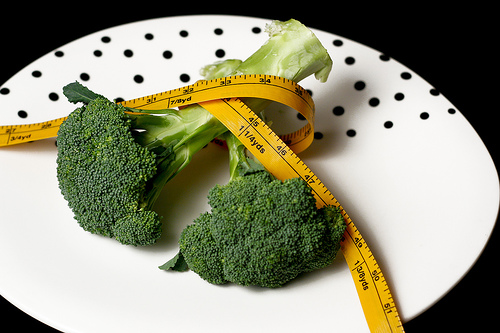broccoli: (57, 18, 333, 248), (157, 58, 349, 289)
